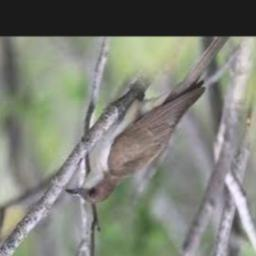Cuckoo: (64, 36, 230, 203)
